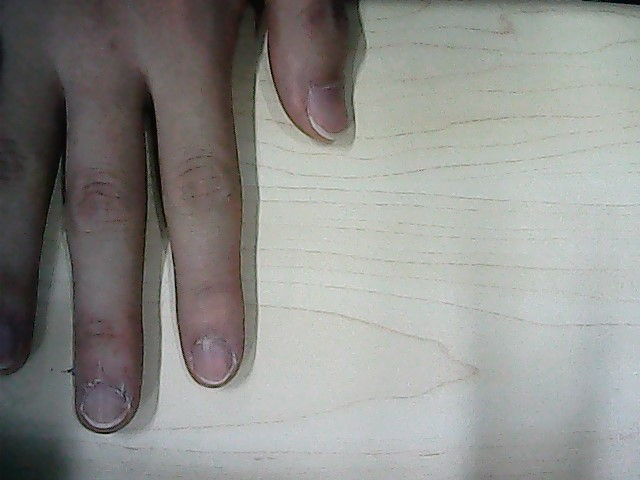nail: (305, 80, 350, 141), (77, 382, 133, 430), (189, 334, 235, 390)
